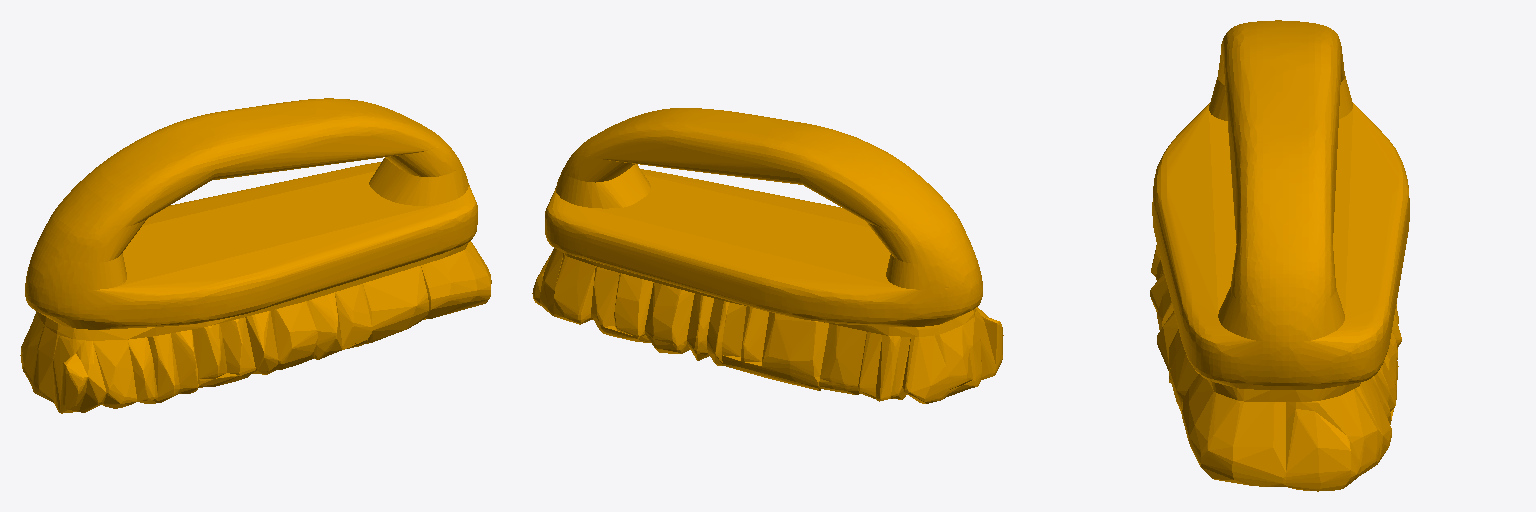
URDF robot description (handle_eraser):
<?xml version="1.0"?>
<robot name="handle_eraser">
  <link name="handle_eraser">
    <visual>
      <origin xyz="0 0 0" rpy="0 0 0"/>
      <geometry>
        <mesh filename="handle_eraser.obj" scale="1 1 1"/>
      </geometry>
    </visual>
    <collision>
      <origin xyz="0 0 0" rpy="0 0 0"/>
      <geometry>
        <mesh filename="handle_eraser.obj" scale="1 1 1"/>
      </geometry>
    </collision>
    <inertial>
      <density value="400.0"/>
    </inertial>
  </link>
</robot>

--- Facts derived from the render (not from the file) ---
3 views of the same robot in one strip: view 1: azimuth 30°, elevation 25°; view 2: azimuth 150°, elevation 25°; view 3: azimuth 270°, elevation 25° (orthographic).
Model handle_eraser with 1 links and 0 joints (none), rooted at handle_eraser, posed all joints at 0.
Links seen in each view (by area): view 1: handle_eraser; view 2: handle_eraser; view 3: handle_eraser.
Link boxes in pixels (x1,y1,x2,y2): handle_eraser: (20, 98, 491, 413); handle_eraser: (532, 108, 1003, 403); handle_eraser: (1150, 20, 1409, 491).
Size in the robot's own frame: 0.1708 by 0.0682 by 0.0833 metres.
Meshes: 1 distinct files referenced, 1 mesh visuals loaded (1 OBJ).
